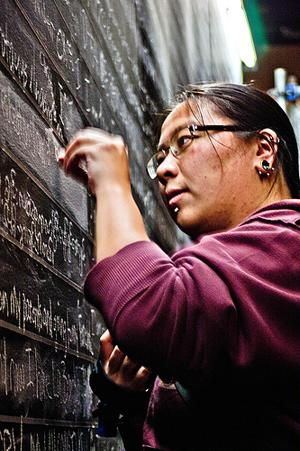person: (64, 84, 300, 451)
